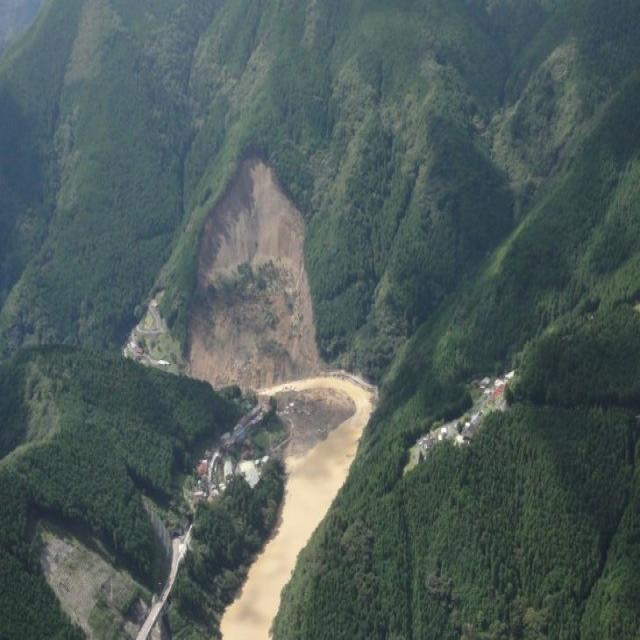Debris-flow: (189, 158, 375, 638), (42, 530, 190, 638), (124, 298, 178, 368)
